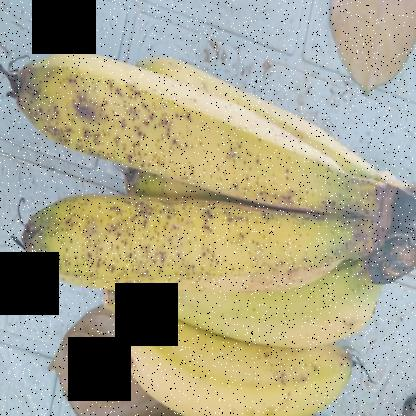ripe: (17, 43, 353, 216), (32, 185, 345, 307), (104, 324, 369, 415)
